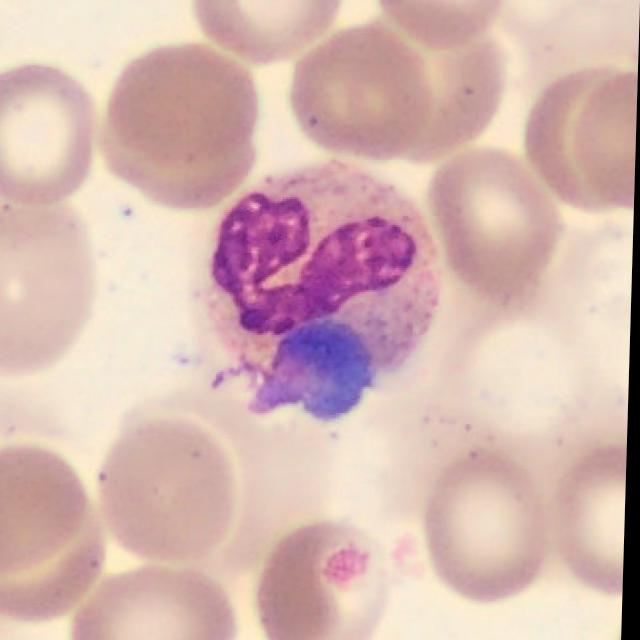Bastonete: (207, 166, 439, 420)
